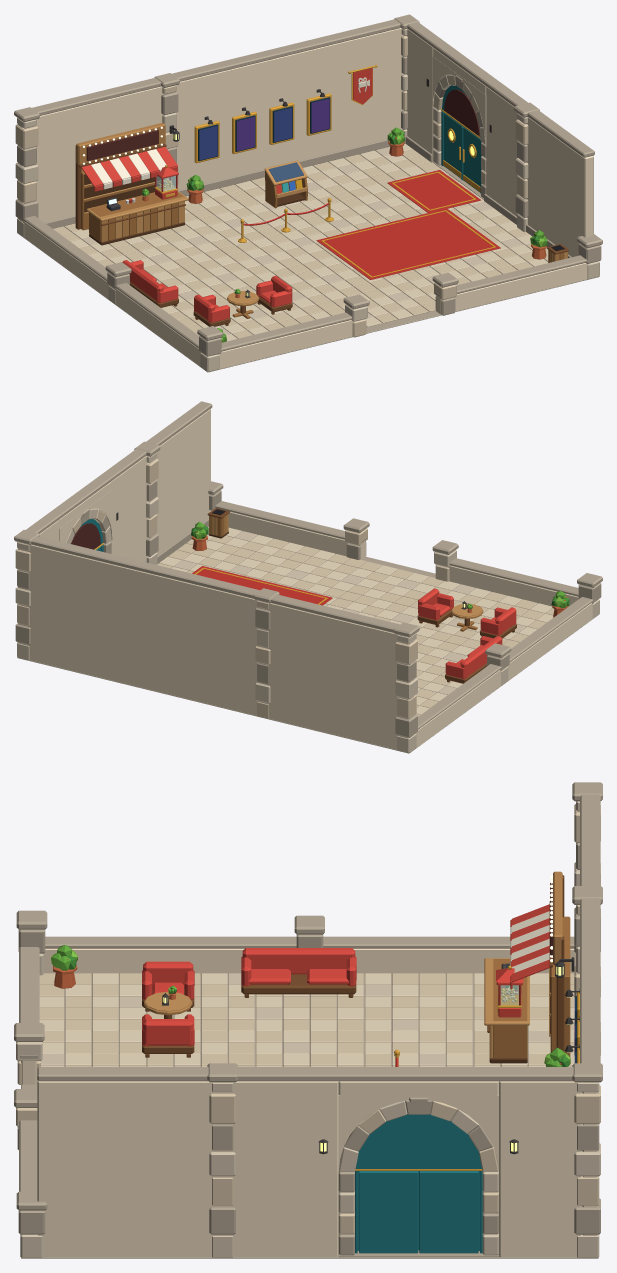
Rendered from cinema_lobby.glb.
3 renders of one model, top to bottom at view 1: azimuth 30°, elevation 25°; view 2: azimuth 150°, elevation 25°; view 3: azimuth 270°, elevation 25°, orthographic. The views are drawn at different scales.
Parts seen in each view (by area): view 1: cinema_lobby, part_door_r, part_door_l; view 2: cinema_lobby; view 3: cinema_lobby, part_door_r, part_door_l.
Part boxes in pixels (x1,y1,x2,y2): cinema_lobby: (14,14,602,372); part_door_r: (461,127,480,192); part_door_l: (443,113,462,178); cinema_lobby: (14,401,602,753); cinema_lobby: (14,782,602,1258); part_door_r: (359,1171,419,1253); part_door_l: (419,1171,478,1253).
Bounding box in the file's own units: 12.76 × 3.76 × 10.81.
